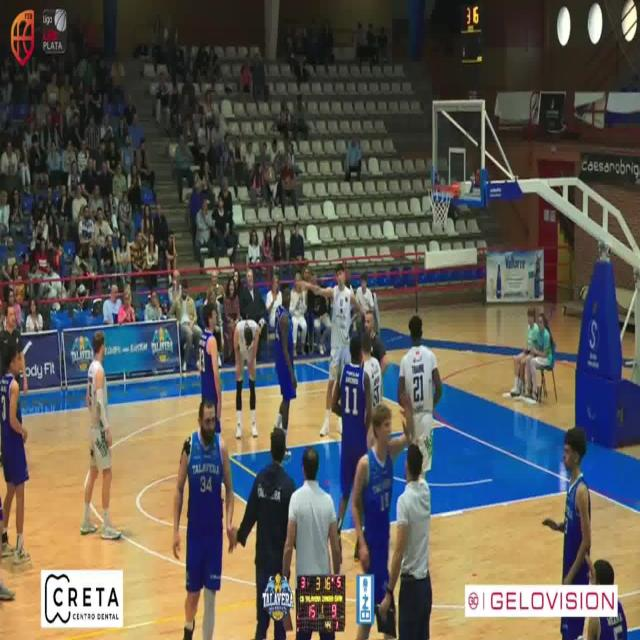basket: (430, 183, 460, 233)
bench person: (236, 427, 295, 640), (353, 404, 408, 605), (380, 443, 433, 640), (283, 446, 341, 579), (544, 427, 592, 585)
player: (172, 398, 234, 640), (306, 263, 361, 436), (80, 330, 121, 540), (332, 335, 372, 532), (398, 314, 443, 473), (0, 347, 30, 566), (233, 318, 263, 438), (275, 286, 297, 436), (199, 300, 222, 432), (362, 329, 382, 408)
referee: (0, 300, 26, 391), (365, 311, 388, 373)
